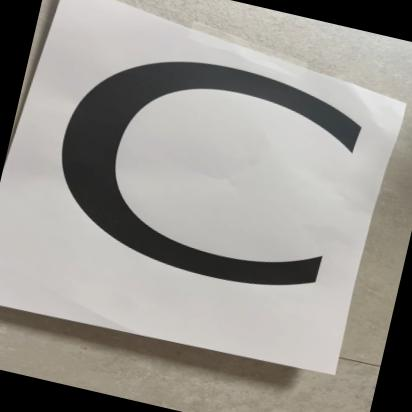seat: (0, 0, 392, 370)
